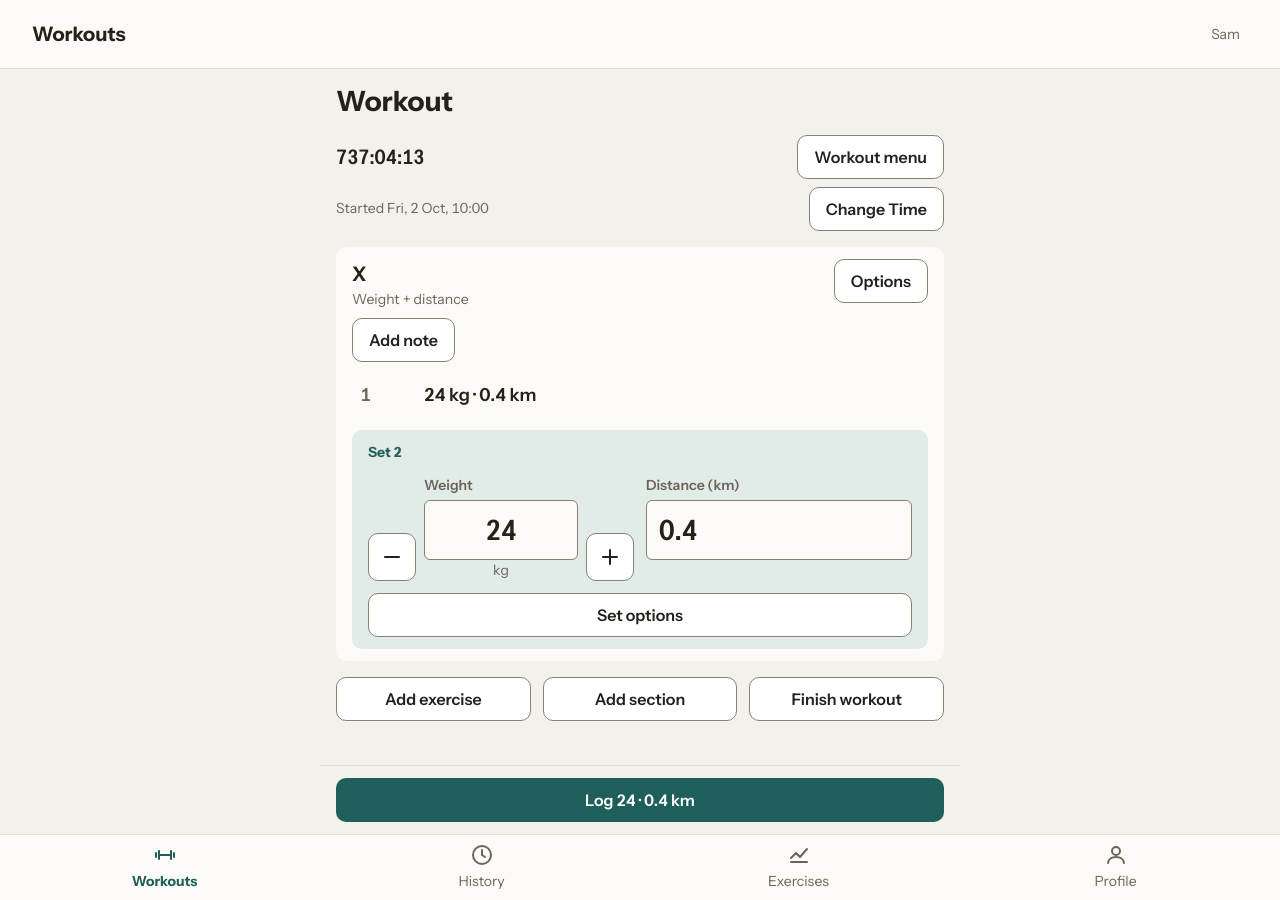
18.1 AC20 — the live set sheet › Review Focus 3 — a carry stored in km opens with 0.4 selected, not the m default
Check: the heading "Workout" is shown, box [336,84,453,118]
Click the button "1 24 kg · 0.4 km" at (480, 395), box [352,374,928,418]
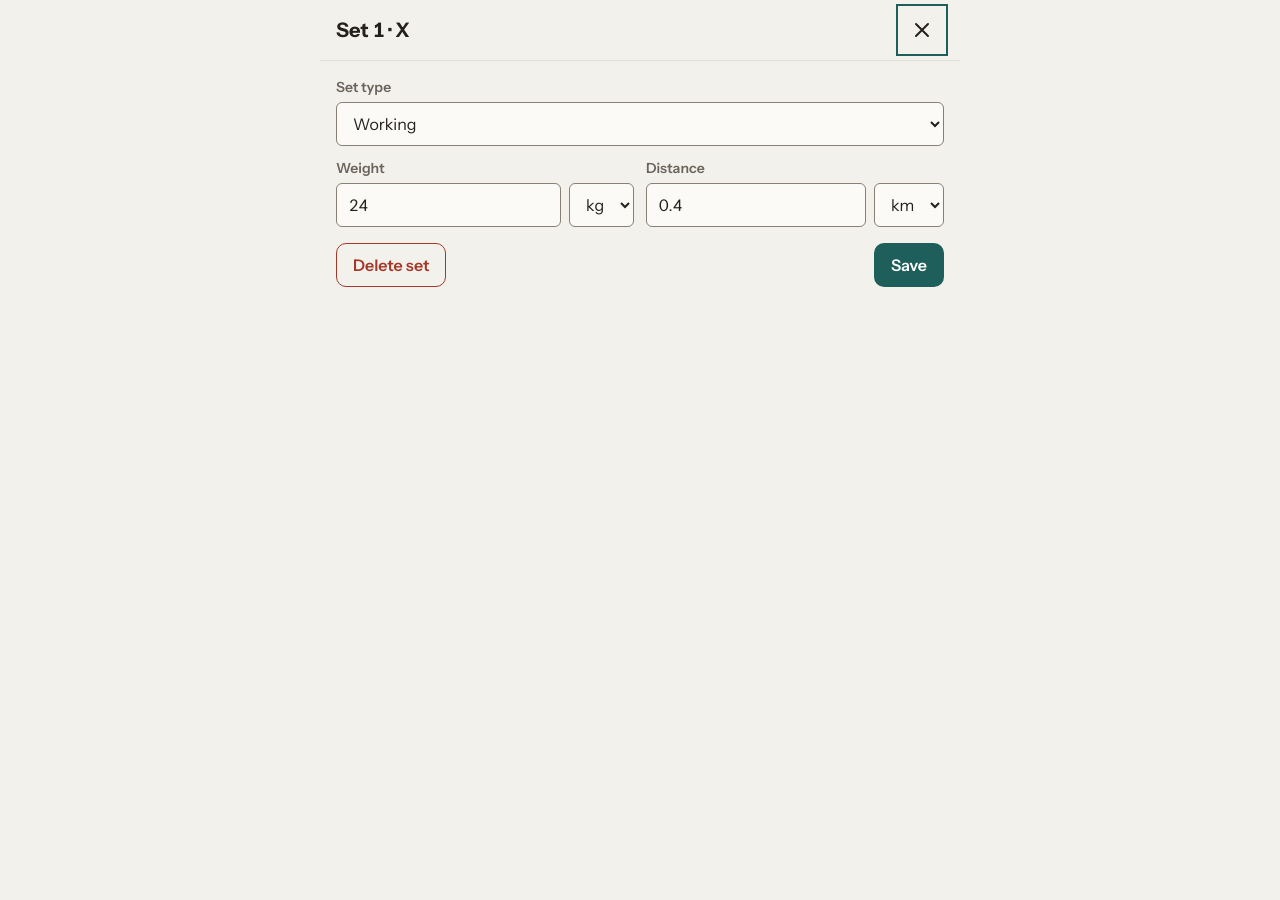
Check: the dropdown named "Distance unit" shows "km", box [874,183,944,227]
